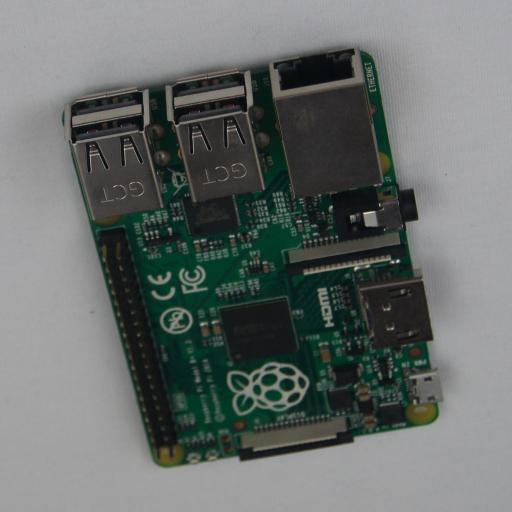Raspberry Pi 1 B-: (62, 47, 439, 467)
